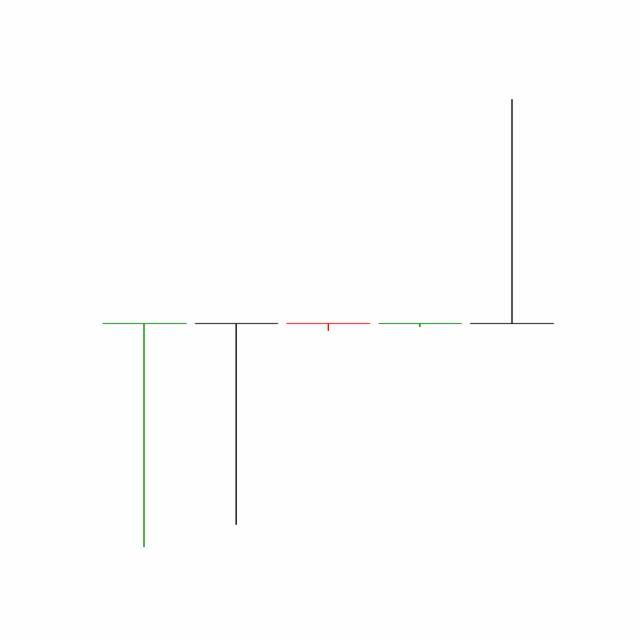Gravestone Doji: (466, 97, 559, 327)
